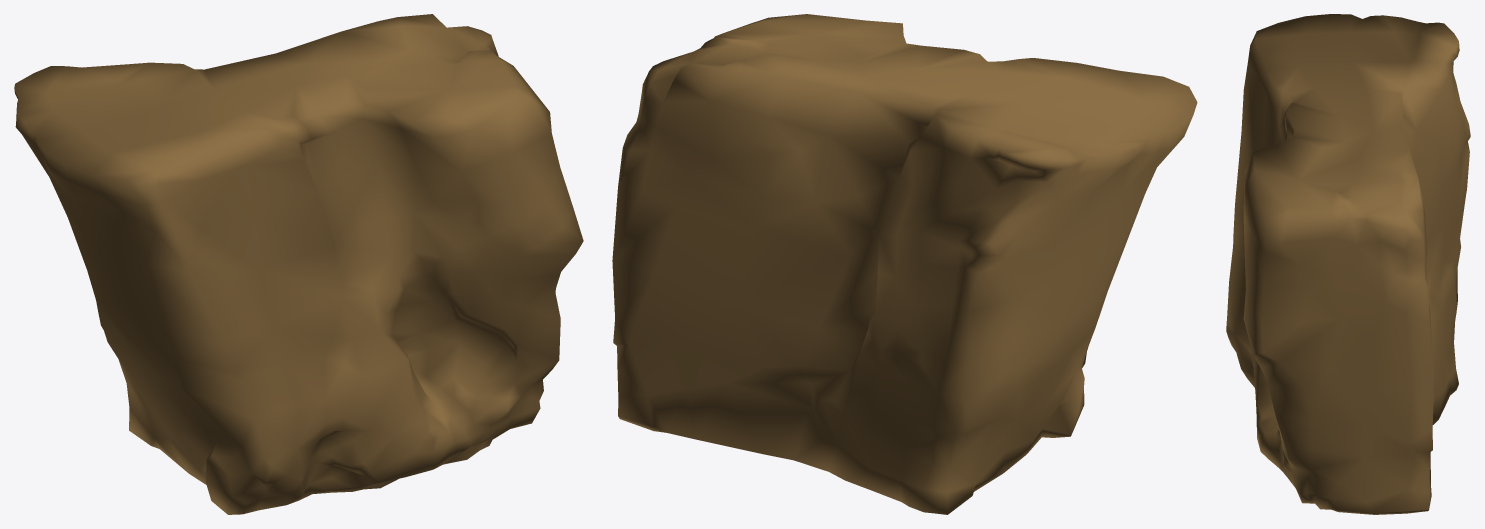
Rendered from MSH_Rocks_Cliff_03_b.FBX.
3 renders of one model, left to right at view 1: azimuth 30°, elevation 25°; view 2: azimuth 150°, elevation 25°; view 3: azimuth 270°, elevation 25°, orthographic. The views are drawn at different scales.
Visible parts, largest first — view 1: MESH_LOD0; view 2: MESH_LOD0; view 3: MESH_LOD0.
Part boxes in pixels (left/top/right/bottom): MESH_LOD0: left=14, top=14, right=583, bottom=514; MESH_LOD0: left=612, top=14, right=1197, bottom=514; MESH_LOD0: left=1226, top=14, right=1470, bottom=514.
Size of what is drawn, in the model's own units: 457 by 346 by 234.
